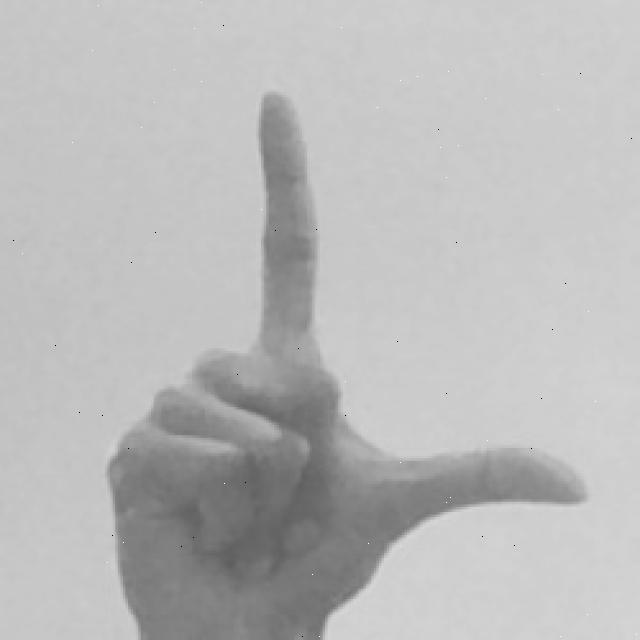L: (100, 87, 596, 640)
